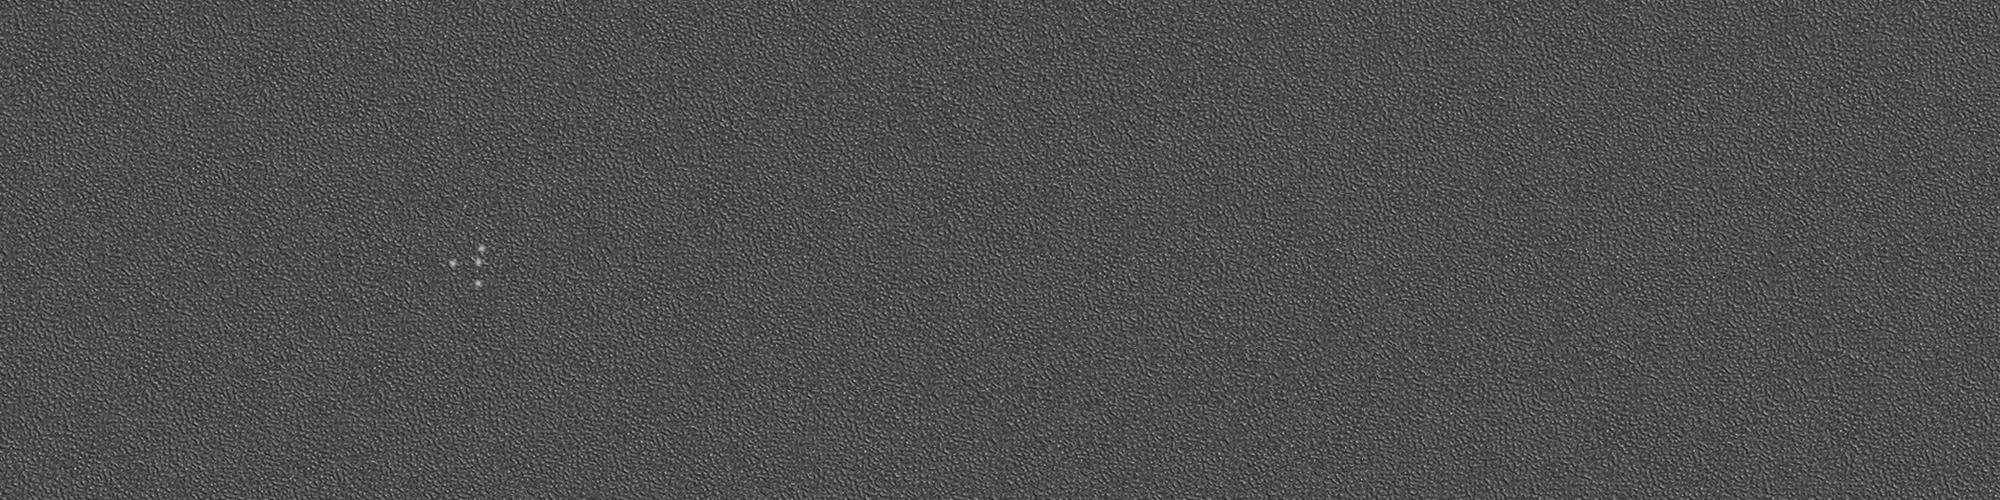Particles: (445, 254, 459, 270), (472, 242, 490, 254), (472, 274, 483, 292), (473, 255, 483, 268)
